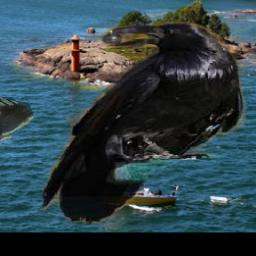Crow: (42, 22, 246, 224), (0, 98, 33, 142)
